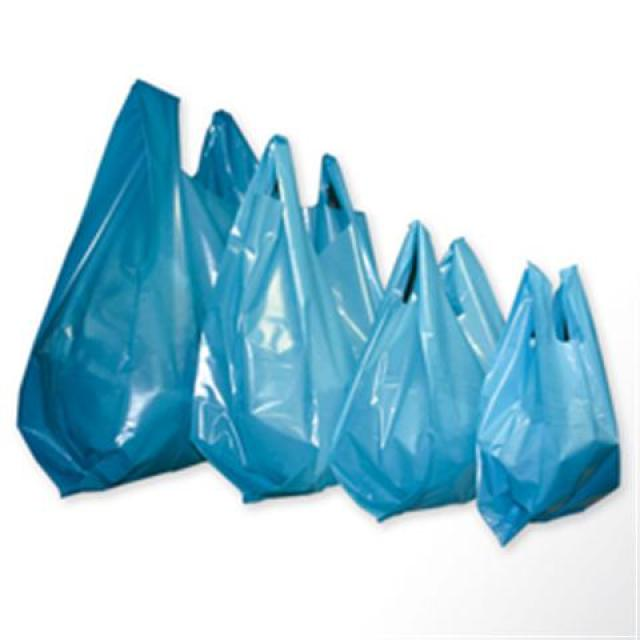Single-layer Plastic: (19, 80, 258, 494), (192, 135, 381, 501), (330, 221, 504, 519), (476, 264, 619, 544)
